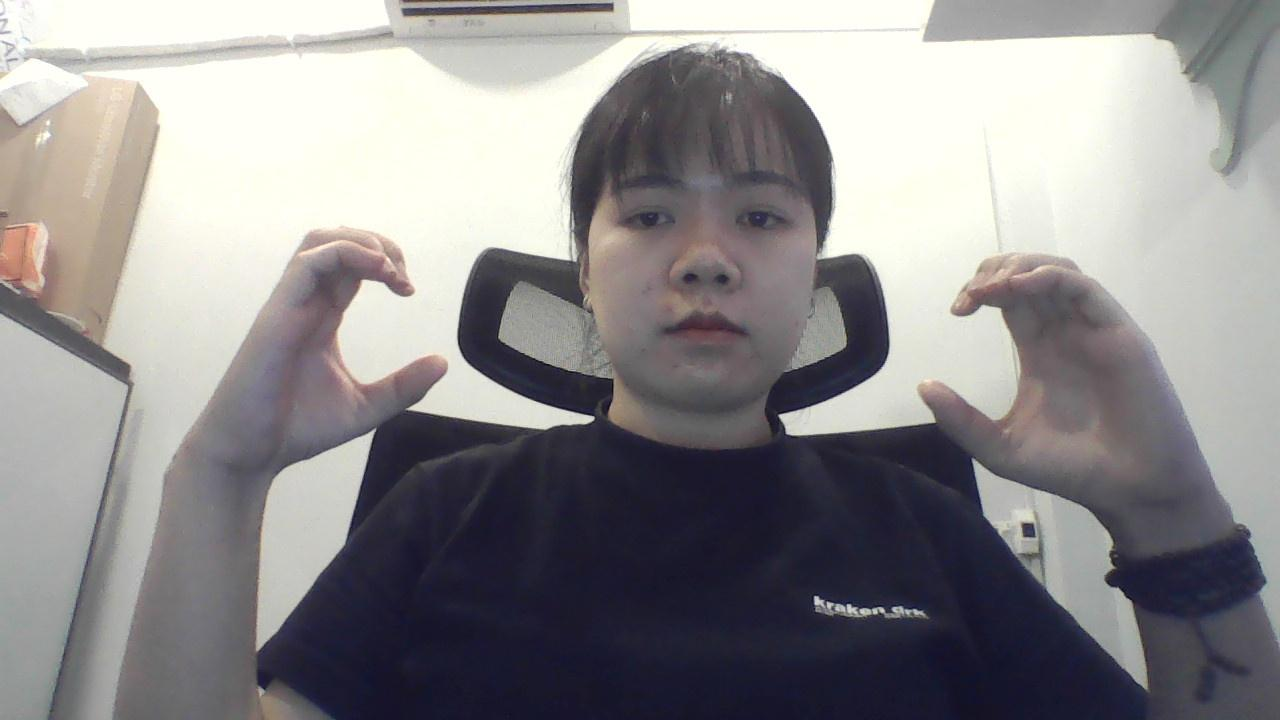C: (902, 234, 1232, 518), (181, 210, 457, 492)
